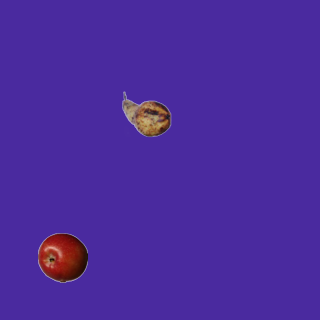Apple Braeburn: (37, 232, 87, 282)
Pear Abate: (121, 89, 171, 139)
